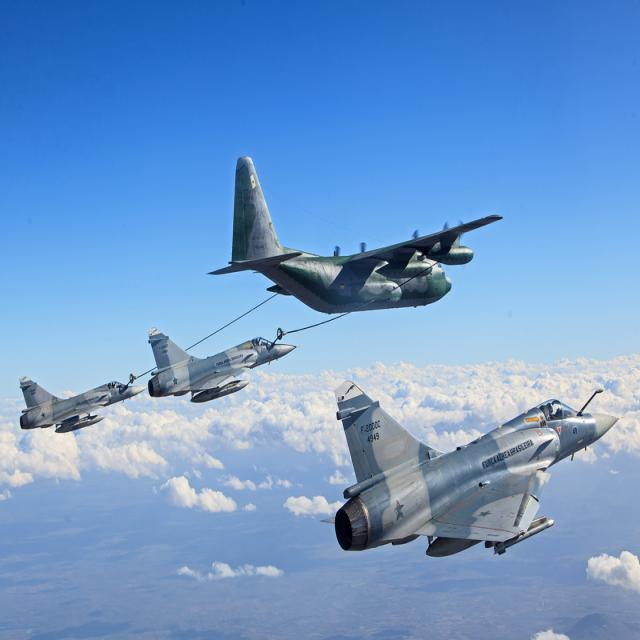MIL_Plane: (319, 380, 625, 558), (222, 120, 487, 278), (162, 328, 284, 402), (19, 375, 148, 433)
